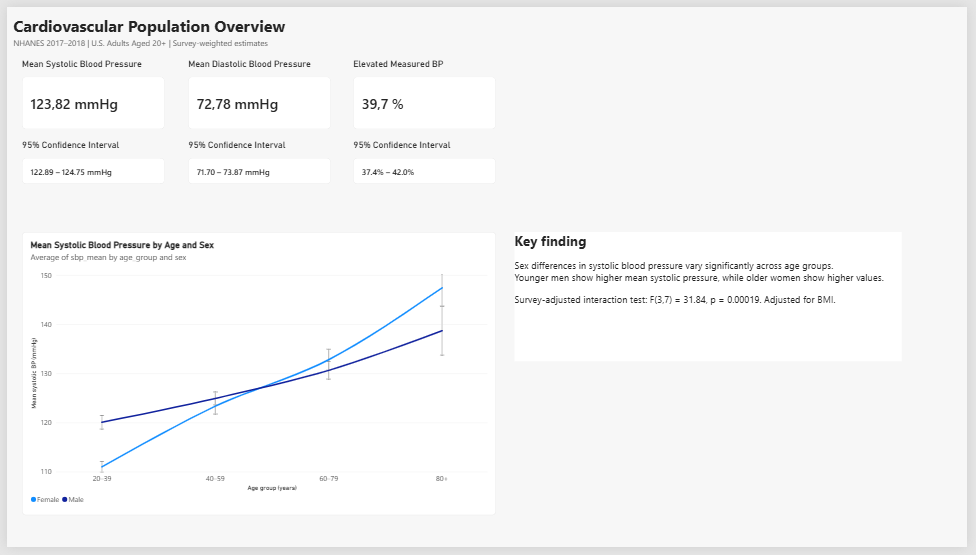

The dashboard page shown, as its layout file describes it:
{"tool":"powerbi","page":{"name":"01 - Population Overview","canvas":[1920,1080],"ordinal":0},"visuals":[{"type":"cardVisual","title":"Mean Systolic Blood Pressure","fields":{"Data":["Sum(r_validated_overall.estimate)"]},"box":[30.5,102,285,142.5],"z":0},{"type":"cardVisual","title":"Mean Diastolic Blood Pressure","fields":{"Data":["Sum(r_validated_overall.estimate)"]},"box":[361.5,102,285,142.5],"z":1000},{"type":"cardVisual","title":"Elevated Measured BP","fields":{"Data":["r_validated_overall.Elevated BP %"]},"box":[692.4,102,285,142.5],"z":2000},{"type":"cardVisual","title":"95% Confidence Interval","fields":{"Data":["r_validated_overall.SBP Confidence Interval"]},"box":[30.2,265.3,285.6,88.9],"z":3000},{"type":"cardVisual","title":"95% Confidence Interval","fields":{"Data":["r_validated_overall.DBP Confidence Interval"]},"box":[361.3,265.3,285.6,88.9],"z":4000},{"type":"cardVisual","title":"95% Confidence Interval","fields":{"Data":["r_validated_overall.Elevated BP Confidence Interval"]},"box":[692.4,265.3,285.6,88.9],"z":5000},{"type":"textbox","box":[12.5,15,568.8,132.5],"z":6000},{"type":"textbox","box":[12,60,636,42],"z":7000},{"type":"lineChart","title":"Mean Systolic Blood Pressure by Age and Sex","fields":{"Category":["r_validated_groups.age_group"],"Series":["r_validated_groups.sex"],"Y":["Avg(r_validated_groups.sbp_mean)"]},"box":[30,450,948,566],"z":8000},{"type":"textbox","box":[1014,450,774,258],"z":9000}]}

Visuals, with their boxes in screenshot pixels (x1, y1, x2, y2), scaled from the page's 1920x1080 canvas onto the 976x555 screenshot:
"Mean Systolic Blood Pressure" cardVisual: box=[16, 52, 160, 126]
"Mean Diastolic Blood Pressure" cardVisual: box=[184, 52, 329, 126]
"Elevated Measured BP" cardVisual: box=[352, 52, 497, 126]
"95% Confidence Interval" cardVisual: box=[15, 136, 161, 182]
"95% Confidence Interval" cardVisual: box=[184, 136, 329, 182]
"95% Confidence Interval" cardVisual: box=[352, 136, 497, 182]
textbox: box=[6, 8, 295, 76]
textbox: box=[6, 31, 329, 52]
"Mean Systolic Blood Pressure by Age and Sex" lineChart: box=[15, 231, 497, 522]
textbox: box=[515, 231, 909, 364]
